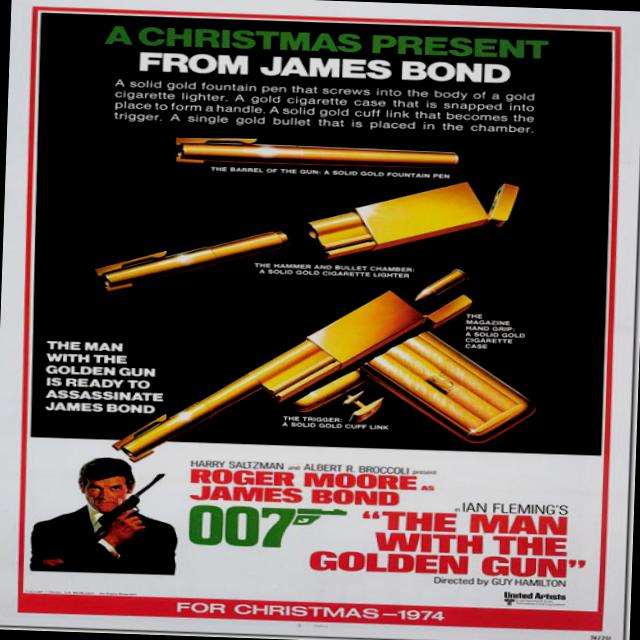handgun: (93, 251, 540, 470), (88, 468, 168, 550)
